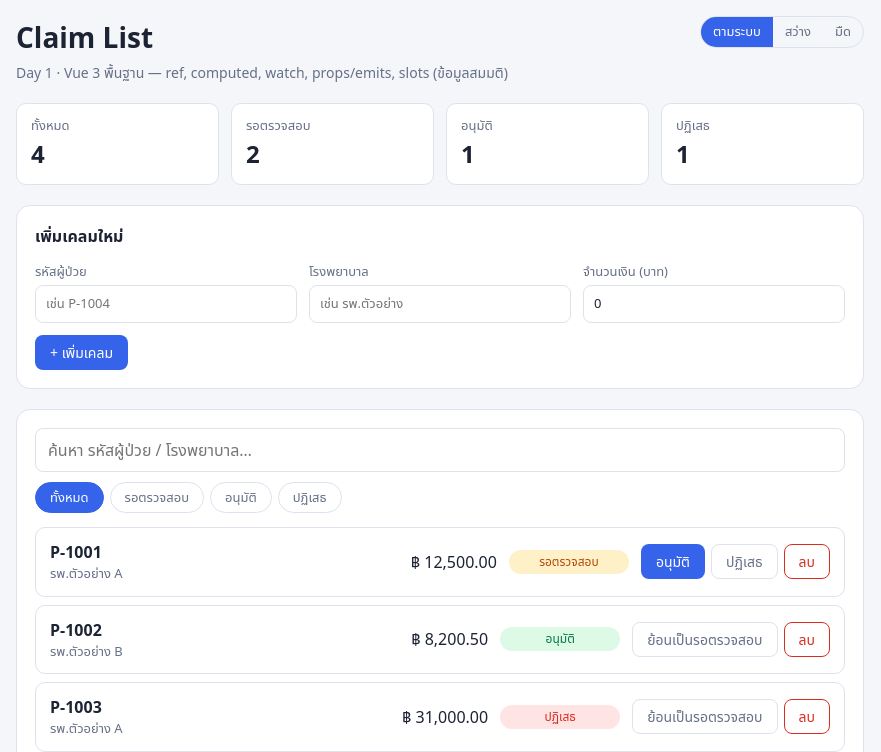
Test: App (integration) › ไม่พบรายการ -> แสดงข้อความ empty slot
Type "ไม่มีอยู่จริง" into the search field with placeholder "ค้นหา รหัสผู้ป่วย / โรงพยาบาล…".
click(440, 450); type("ไม่มีอยู่จริง")  # box [35,428,845,472]
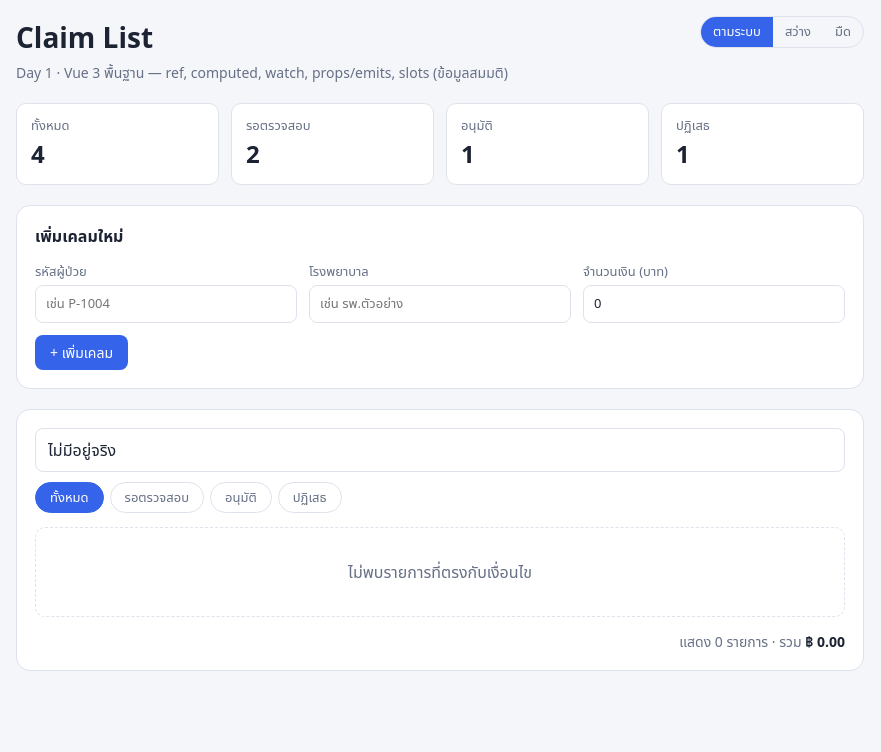
expect no list items are shown: met
expect the text "ไม่พบรายการที่ตรงกับเงื่อนไข" is shown: met, box [35,527,845,617]
